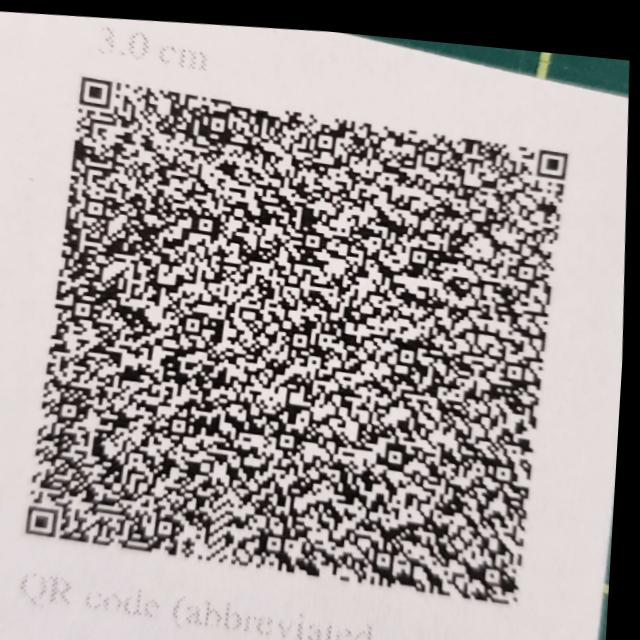QR_CODE: (5, 31, 600, 640)
